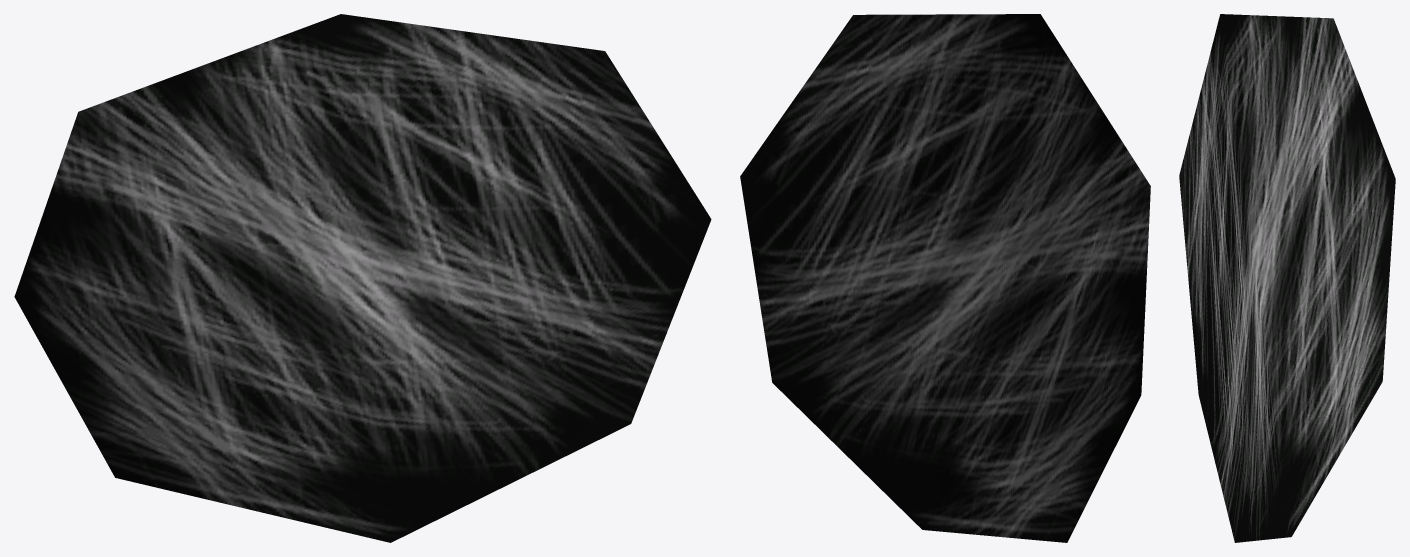
The model's file is MIRKWOOD_SPIDERWEB_COVERS25.fbx.
3 renders of one model, left to right at view 1: azimuth 30°, elevation 25°; view 2: azimuth 150°, elevation 25°; view 3: azimuth 270°, elevation 25°, orthographic. The views are drawn at different scales.
Visible parts, largest first — view 1: MIRKWOOD_SPIDERWEB_COVERS25; view 2: MIRKWOOD_SPIDERWEB_COVERS25; view 3: MIRKWOOD_SPIDERWEB_COVERS25.
Boxes of the visible parts, x1,y1,x2,y2 form: MIRKWOOD_SPIDERWEB_COVERS25: (14,14,711,542); MIRKWOOD_SPIDERWEB_COVERS25: (740,14,1150,542); MIRKWOOD_SPIDERWEB_COVERS25: (1179,14,1395,542).
Bounding box in the file's own units: 26435 × 25450 × 10294.
1 material, 1 textured.
